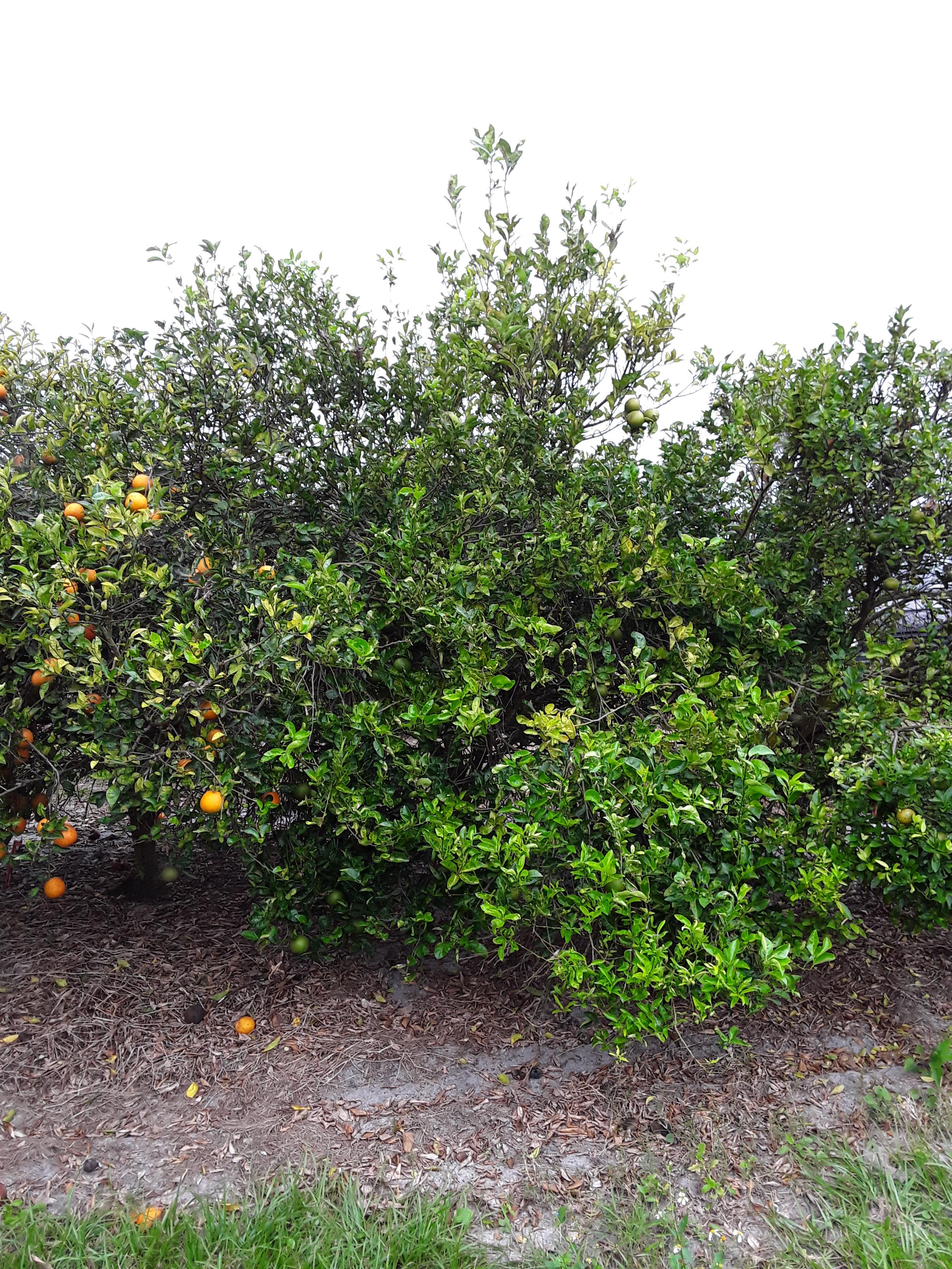fruit_on_ground: (200, 788, 228, 815), (51, 823, 78, 849), (173, 755, 201, 778), (603, 872, 630, 895), (43, 875, 67, 900), (30, 668, 58, 687), (55, 578, 78, 600), (197, 699, 219, 722), (124, 491, 148, 512), (80, 694, 104, 715), (288, 933, 310, 955), (499, 883, 521, 904), (259, 790, 282, 810), (131, 473, 155, 492), (7, 815, 28, 836), (346, 916, 369, 935), (867, 528, 892, 545), (14, 727, 34, 748), (625, 410, 644, 431), (64, 502, 85, 521), (896, 806, 917, 825), (908, 507, 927, 527), (292, 782, 312, 801), (159, 865, 180, 883), (12, 748, 31, 767), (31, 792, 49, 812), (36, 817, 54, 837), (77, 568, 98, 585), (205, 729, 226, 746), (881, 576, 901, 593), (60, 611, 80, 628), (392, 656, 412, 673), (197, 557, 214, 576), (328, 889, 345, 908), (40, 449, 60, 465), (12, 795, 30, 812), (148, 507, 164, 525), (187, 570, 203, 588), (869, 776, 887, 792), (642, 407, 661, 422), (625, 397, 641, 414), (259, 565, 276, 580), (42, 658, 61, 671), (85, 625, 98, 643), (611, 626, 625, 642), (595, 682, 609, 697), (0, 839, 8, 865), (12, 453, 25, 467), (183, 528, 196, 540), (169, 485, 183, 495), (0, 383, 7, 402), (0, 410, 11, 422), (0, 365, 9, 379), (712, 399, 721, 409), (99, 544, 107, 552)
fruit_on_tree: (134, 1204, 164, 1232), (648, 1116, 674, 1138), (183, 1003, 207, 1025), (616, 1115, 641, 1133), (234, 1015, 256, 1035), (82, 1158, 100, 1174), (529, 1066, 543, 1080), (158, 813, 166, 820)
